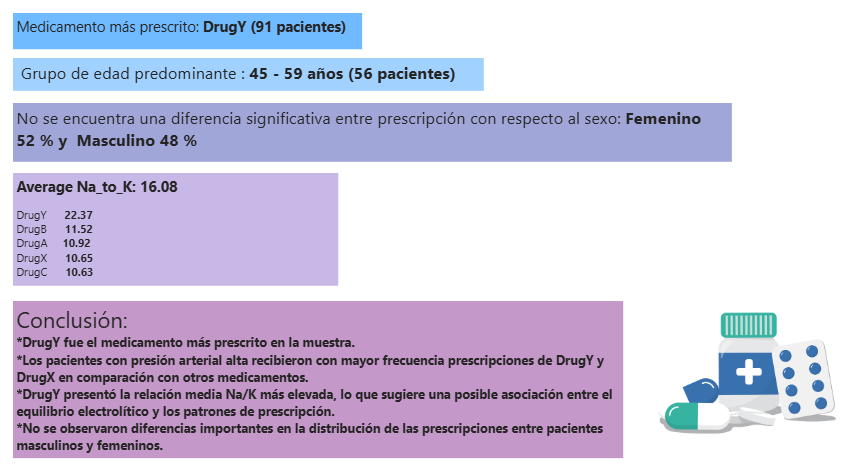

The dashboard page shown, as its layout file describes it:
{"tool":"powerbi","page":{"name":"Página 3","canvas":[1280,720],"ordinal":2},"visuals":[{"type":"textbox","box":[58.5,447.8,892.7,229.8],"z":0},{"type":"textbox","box":[58.5,26.3,510.7,52.7],"z":1000},{"type":"textbox","box":[58.5,92.2,689.3,48.3],"z":2000},{"type":"textbox","box":[58.5,158,1052.2,86.3],"z":3000},{"type":"textbox","box":[58.5,260.5,475.6,165.4],"z":4000},{"type":"image","box":[1001,447.8,262,210.7],"z":5000}]}

Visuals, with their boxes in screenshot pixels (x1, y1, x2, y2), scaled from the page's 1280x720 canvas onto the 842x469 screenshot:
textbox: (left=38, top=292, right=626, bottom=441)
textbox: (left=38, top=17, right=374, bottom=51)
textbox: (left=38, top=60, right=492, bottom=92)
textbox: (left=38, top=103, right=731, bottom=159)
textbox: (left=38, top=170, right=351, bottom=277)
image: (left=658, top=292, right=831, bottom=429)
